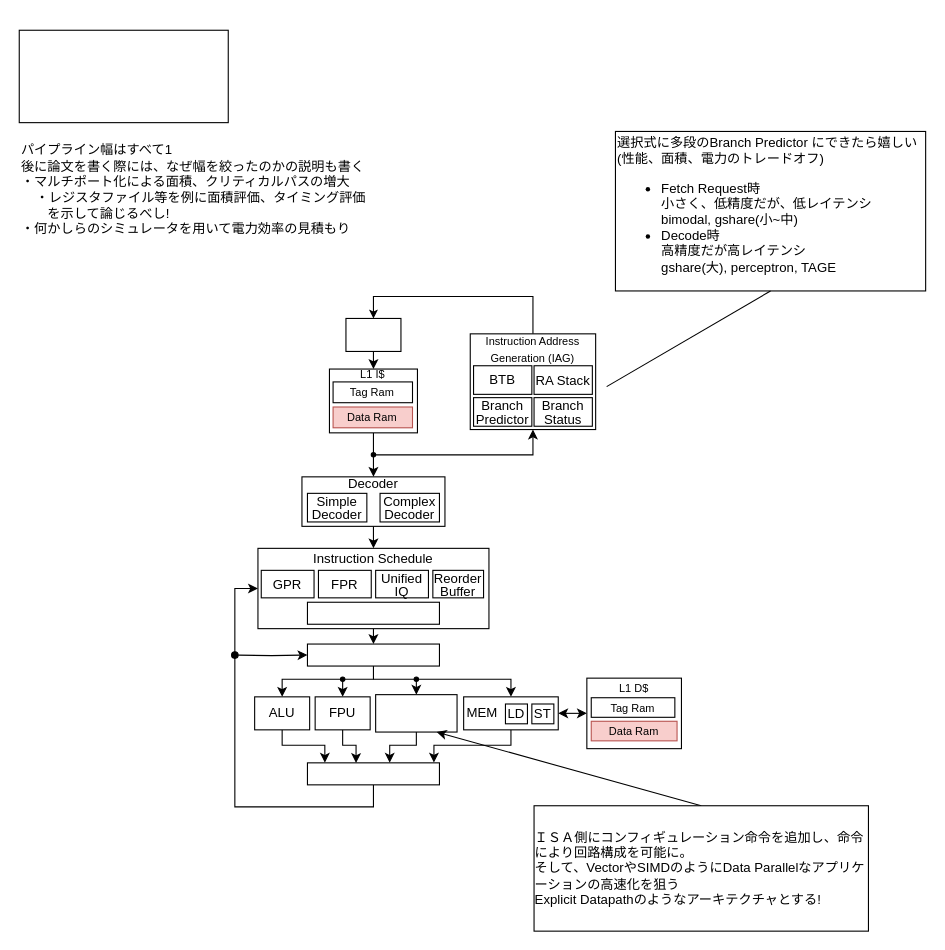
Image size: 945x950. Some labels were removed from this diagram. Here are the shapes that lost their labels. From the top down, the box of each, then its label:
(18, 29, 228, 123): SRVIO Core Simple Risc-V Implementable Out-of-Order Core
(345, 317, 401, 351): Fetch
(306, 601, 439, 624): Operand Mux
(306, 643, 439, 666): Forwarding Mux
(375, 694, 457, 732): CoProcessor (Vector/Matrix)
(306, 762, 439, 785): Common Data Bus
